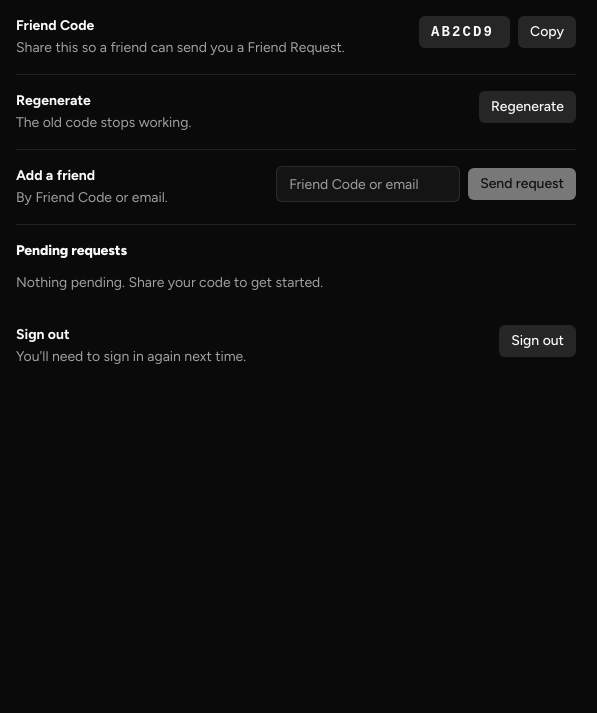
Scenario: Settings › shows the Friend Code and copies it via the Copy button, confirming with a toast
Expected: the text "AB2CD9" is shown, [419,16,510,48]
Click the button "Copy" at [547, 32], box [518,16,576,48]
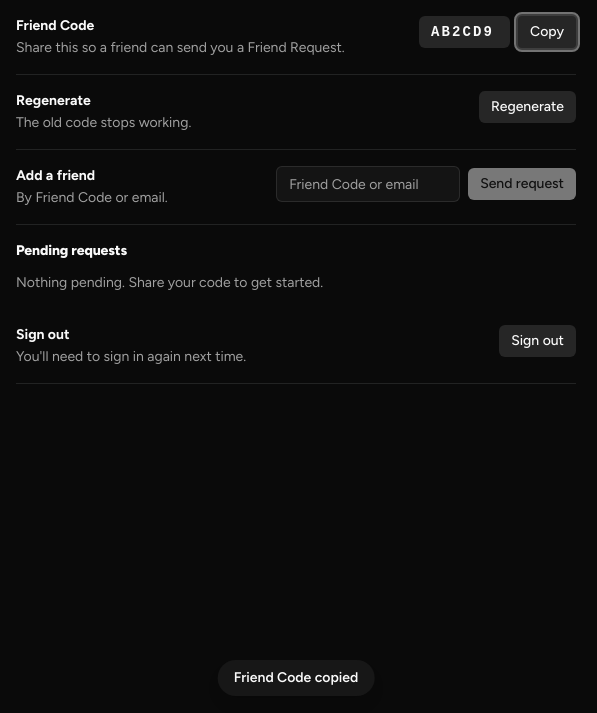
Now the text "Friend Code copied" is shown, box [218,660,374,696]
